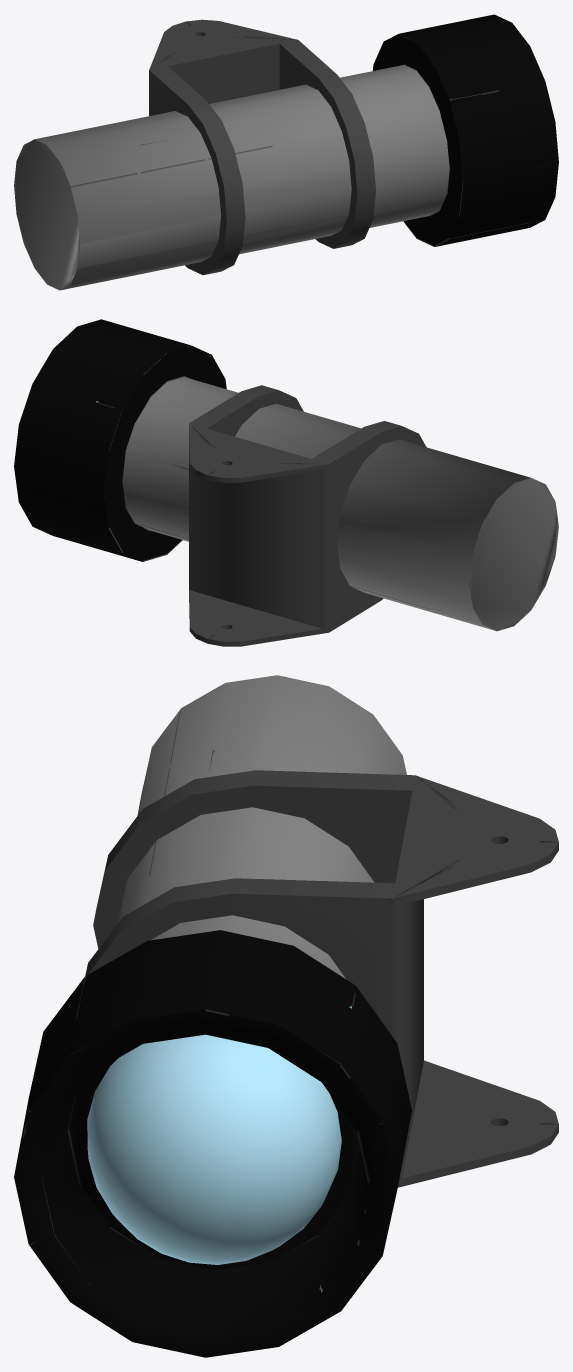
The model's file is ricketts_front_camera.obj.
3 views of the same model, one above another, from view 1: azimuth 30°, elevation 25°; view 2: azimuth 150°, elevation 25°; view 3: azimuth 270°, elevation 25° (orthographic). The views are drawn at different scales.
Parts seen in each view (by area): view 1: equipment_front_camera; view 2: equipment_front_camera; view 3: equipment_front_camera.
Boxes of the visible parts, bbox=[...] form: equipment_front_camera: bbox=[14, 14, 558, 290]; equipment_front_camera: bbox=[14, 319, 558, 646]; equipment_front_camera: bbox=[14, 675, 558, 1357].
Size of the model in its own units: 0.6514 by 0.2667 by 0.378.
Materials: 1 (1 with a texture image).
